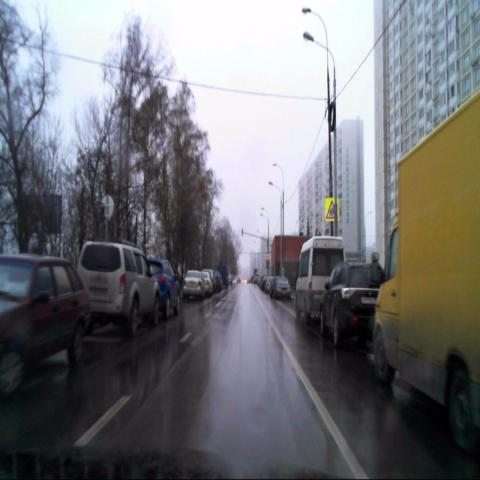1_23: (325, 197, 339, 222)
